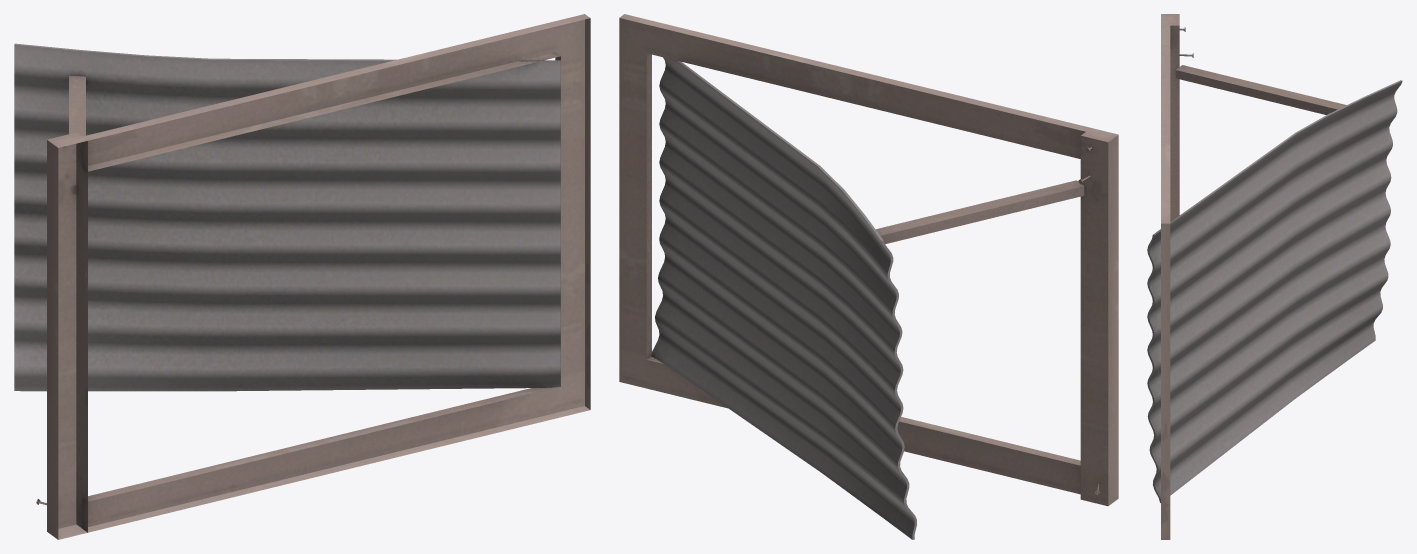
Rendered from props_mining_factory_hatch001.glb.
The picture shows the model from 3 angles, left to right: view 1: azimuth 30°, elevation 25°; view 2: azimuth 150°, elevation 25°; view 3: azimuth 270°, elevation 25°; orthographic projection. The views are drawn at different scales.
Parts seen in each view (by area): view 1: models/props_mining/factory_hatch001; view 2: models/props_mining/factory_hatch001; view 3: models/props_mining/factory_hatch001.
Part boxes in pixels (x1,y1,x2,y2): models/props_mining/factory_hatch001: (14, 14, 590, 539); models/props_mining/factory_hatch001: (619, 14, 1118, 539); models/props_mining/factory_hatch001: (1147, 14, 1402, 539).
Bounding box in the file's own units: 108 × 76 × 55.62.
1 material, 1 textured.
